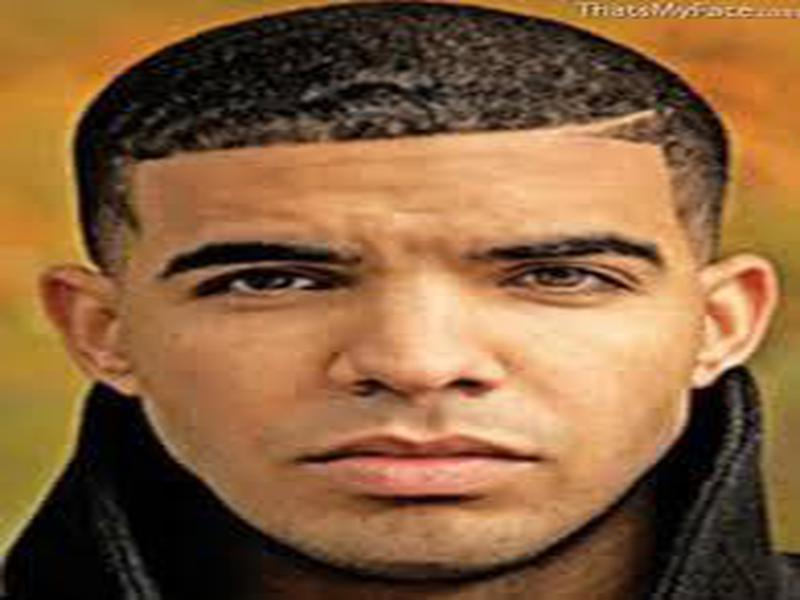without_mask: (119, 157, 685, 567)
